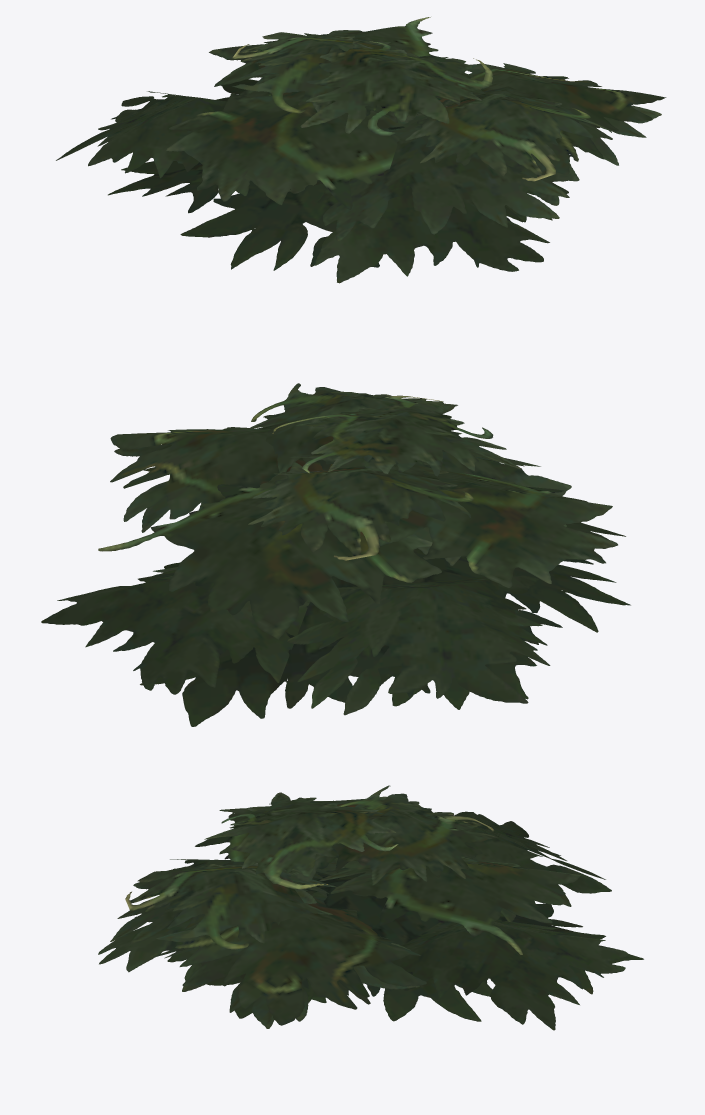
File: bush_00.fbx
3 renders of one model, top to bottom at view 1: azimuth 30°, elevation 25°; view 2: azimuth 150°, elevation 25°; view 3: azimuth 270°, elevation 25°, orthographic. The views are drawn at different scales.
Parts seen in each view (by area): view 1: bush_00; view 2: bush_00; view 3: bush_00.
Boxes of the visible parts, bbox=[...] form: bush_00: bbox=[56, 17, 666, 283]; bush_00: bbox=[41, 383, 630, 726]; bush_00: bbox=[98, 785, 643, 1030].
Bounding box in the file's own units: 15145 × 3728 × 14878.
